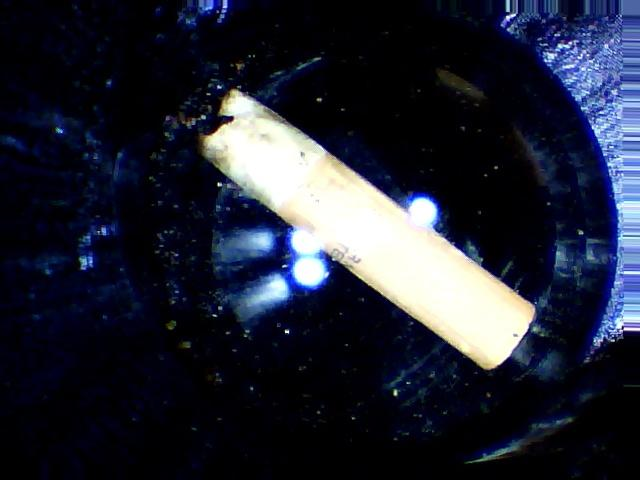megot: (189, 77, 539, 381)
